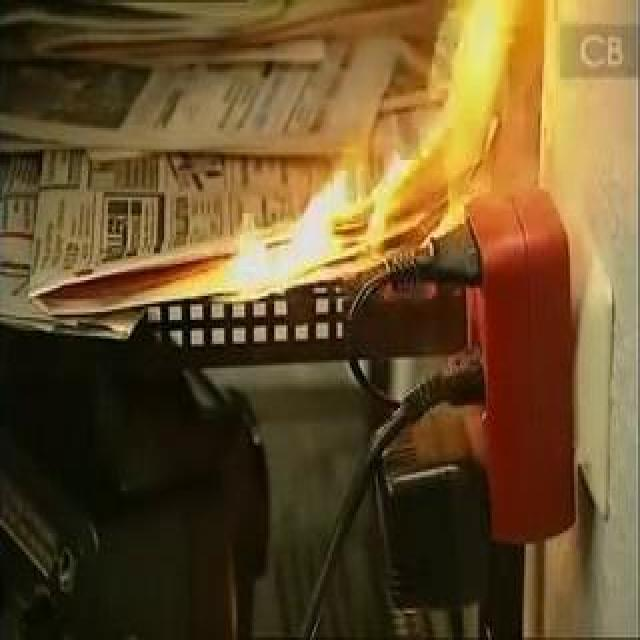Fire: (234, 2, 544, 314)
